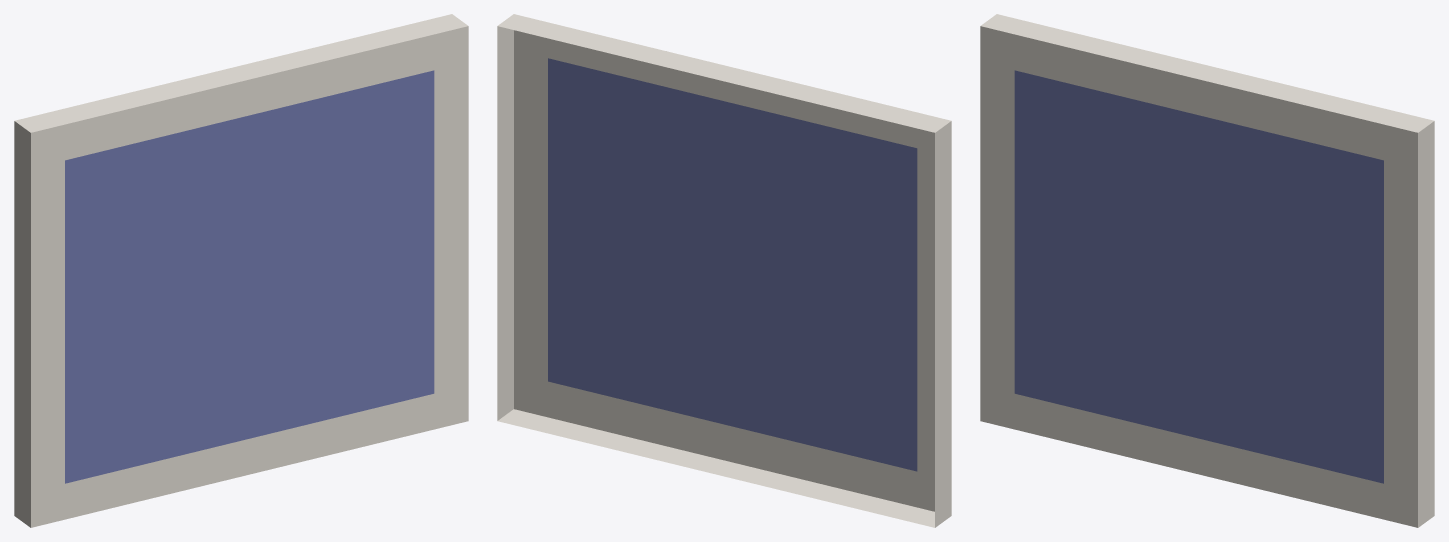
The model's file is Paint_11.fbx.
3 views of the same model, side by side, from view 1: azimuth 30°, elevation 25°; view 2: azimuth 150°, elevation 25°; view 3: azimuth 330°, elevation 25° (orthographic).
Parts seen in each view (by area): view 1: polySurface1565; view 2: polySurface1565; view 3: polySurface1565.
Boxes of the visible parts, x1,y1,x2,y2 form: polySurface1565: (14,14,468,527); polySurface1565: (497,14,951,527); polySurface1565: (980,14,1434,527).
Size of the model in its own units: 1.23 by 1.06 by 0.08.
1 material, 1 textured.
